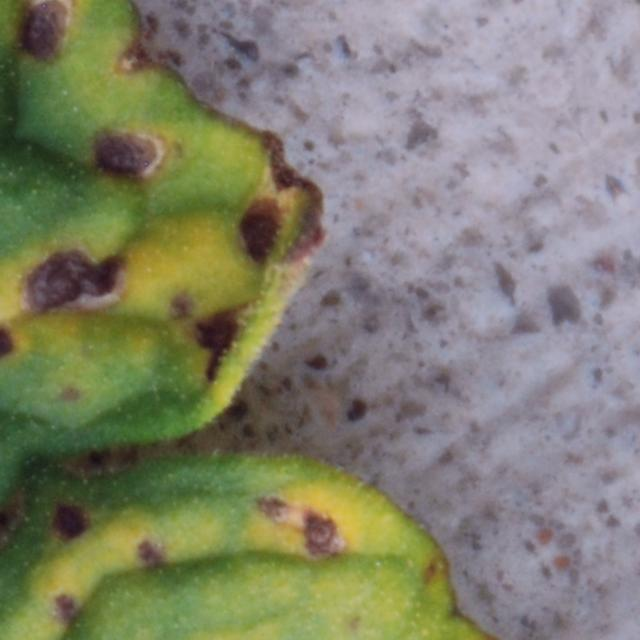Tomato Early blight leaf: (0, 26, 532, 640)
